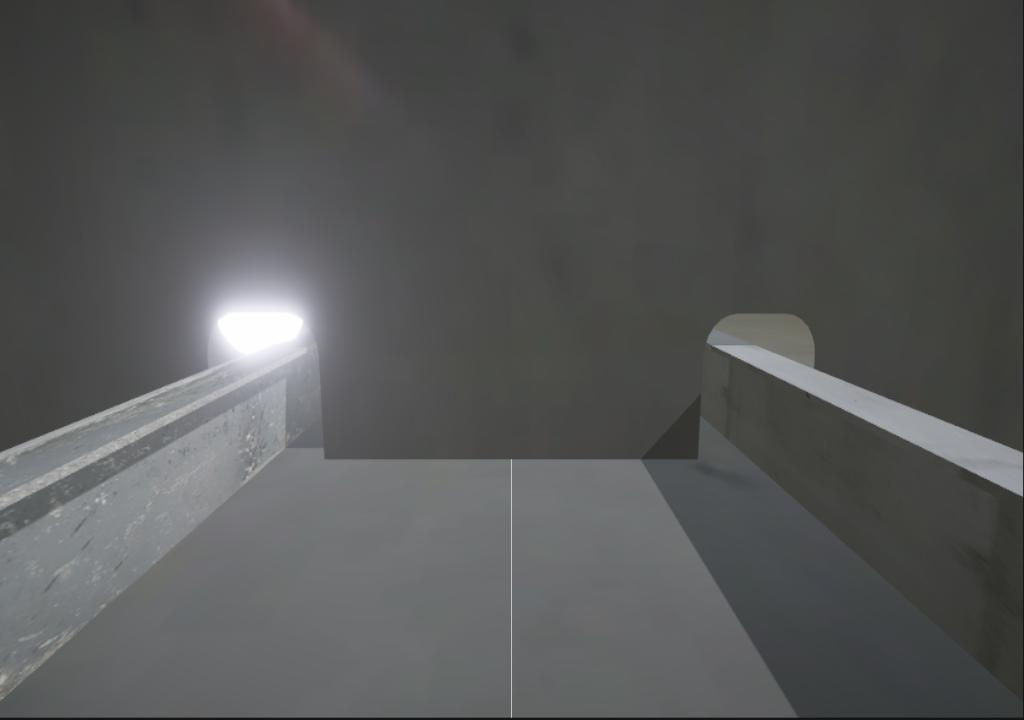fillet_yong_jeop_jang: (314, 441, 707, 472)
